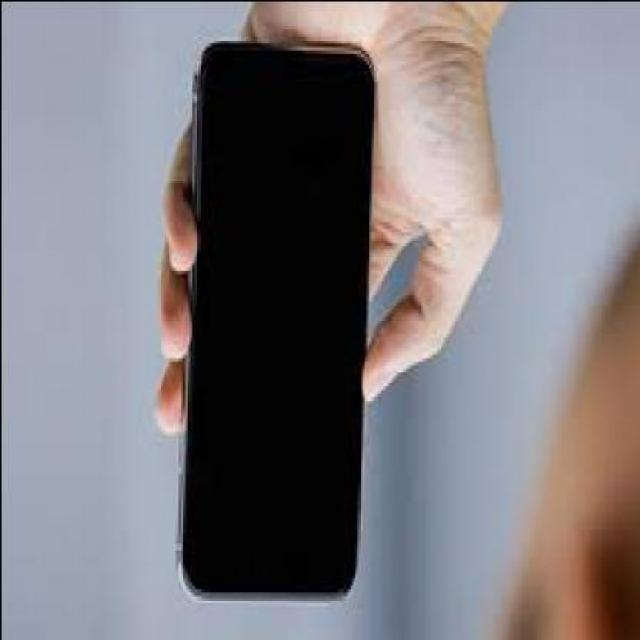phone: (174, 39, 372, 599)
